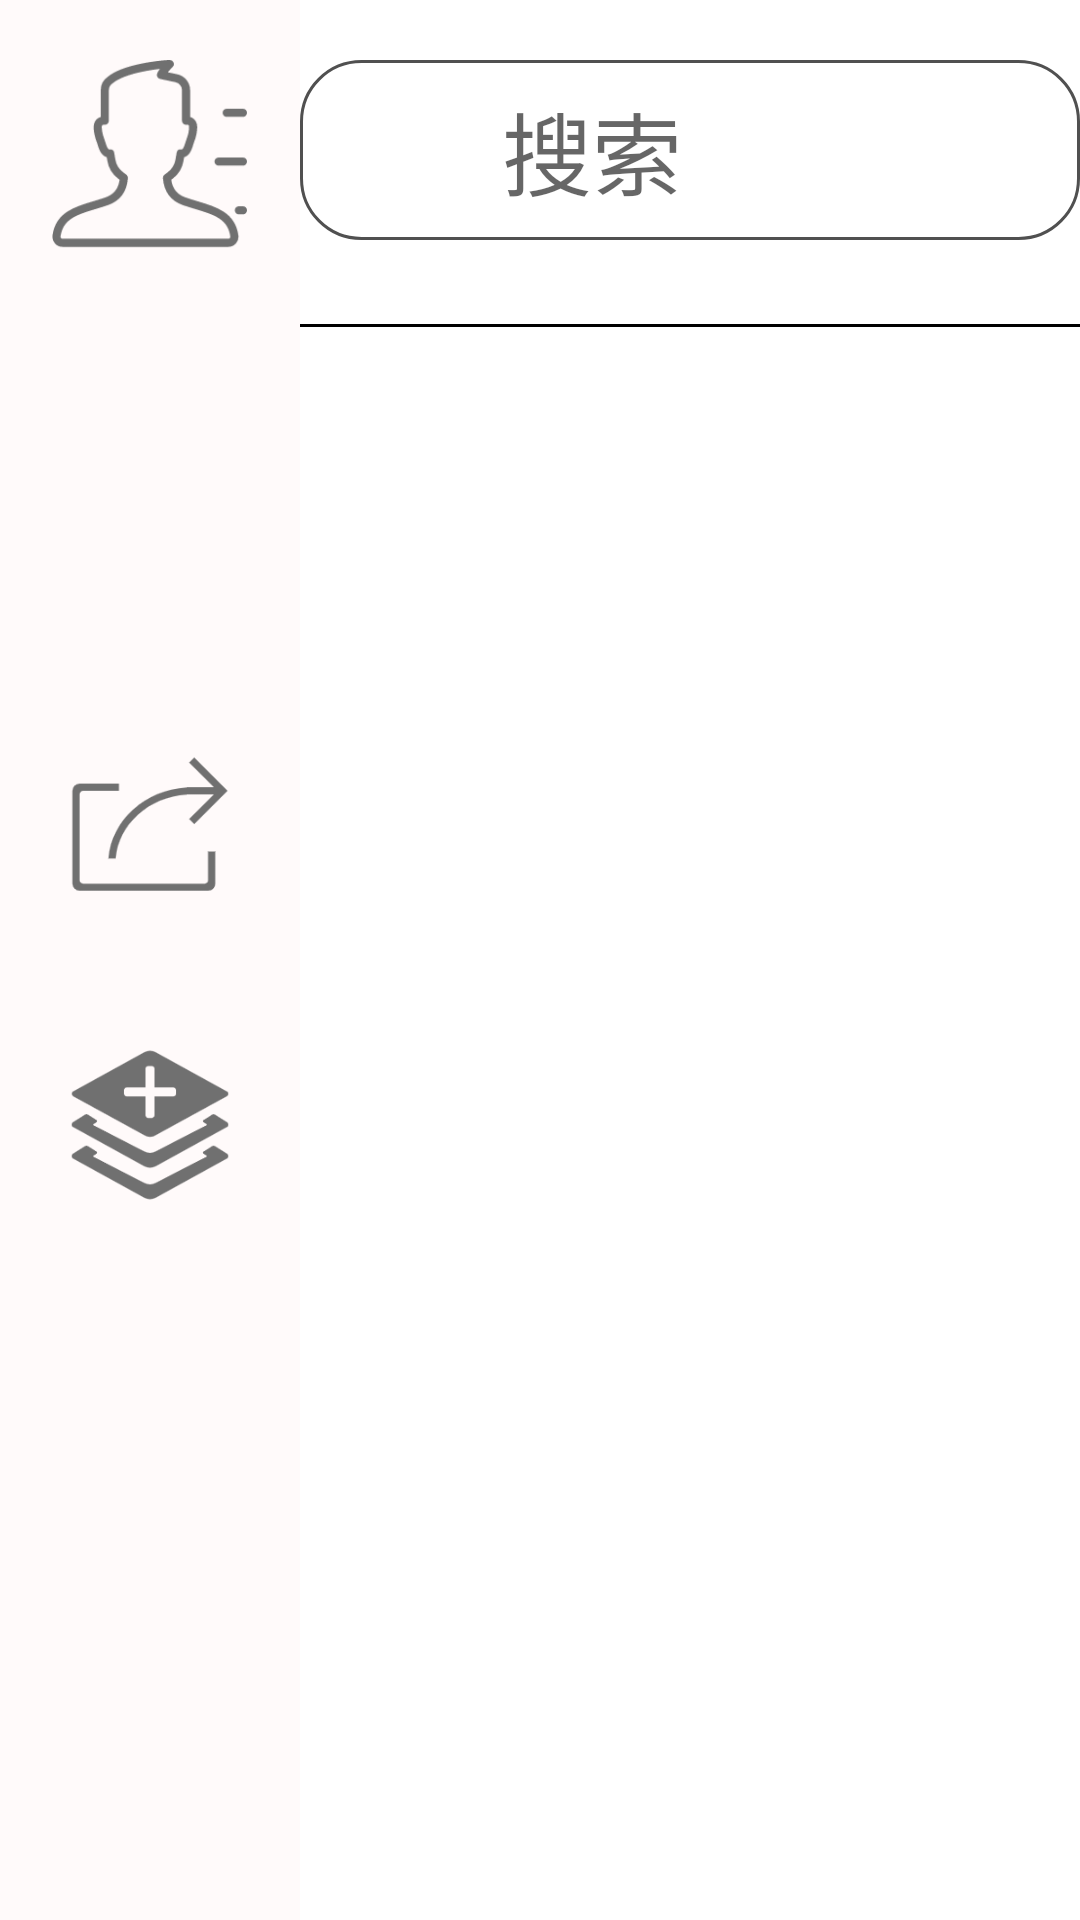

Named icons in this screenshot (1080px×1920px) and their centers, (x=x, y=y):
share: (x=150, y=824)
user: (x=149, y=153)
